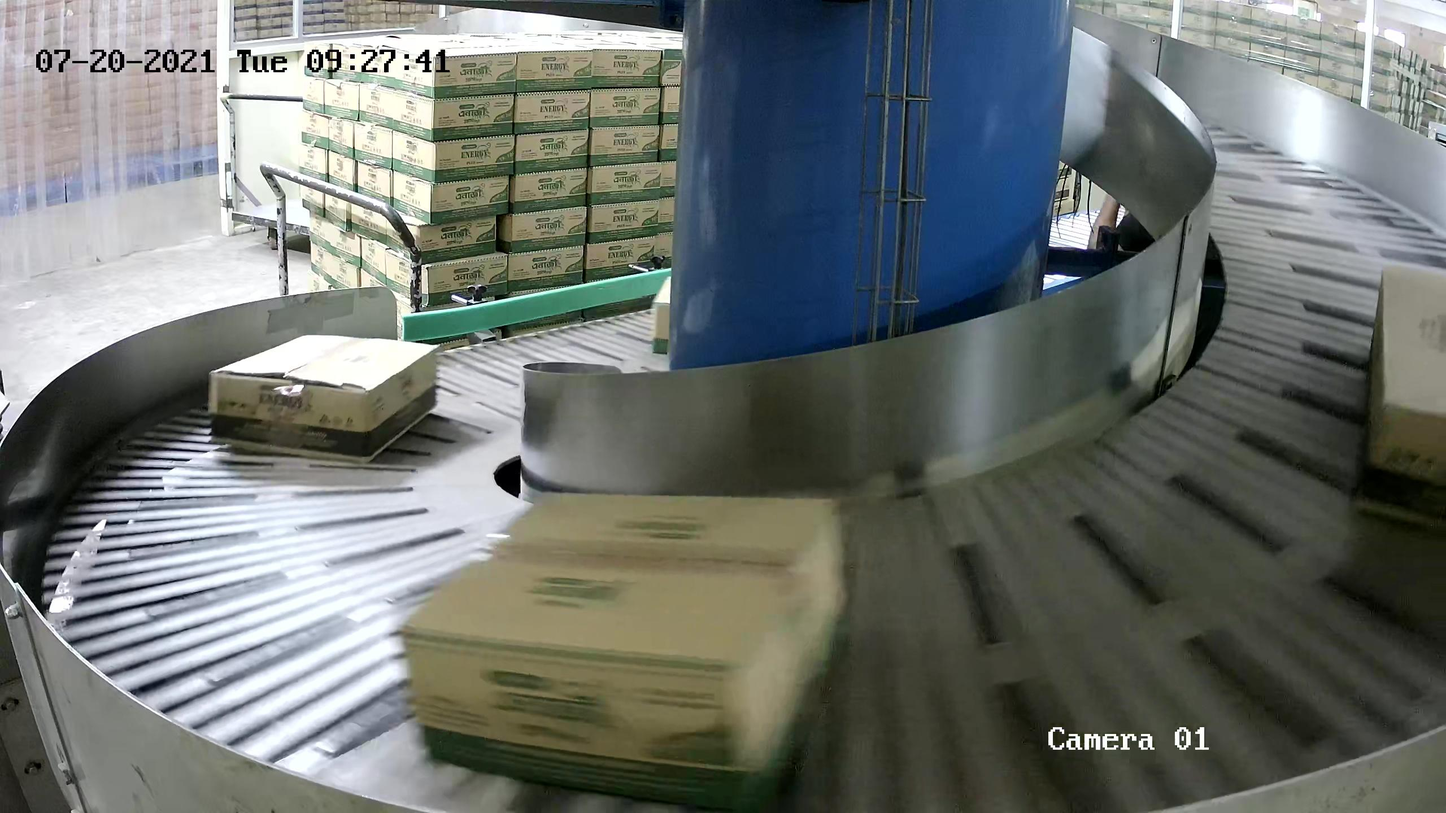Box: (394, 486, 848, 813), (209, 333, 439, 464), (1345, 258, 1446, 542)
